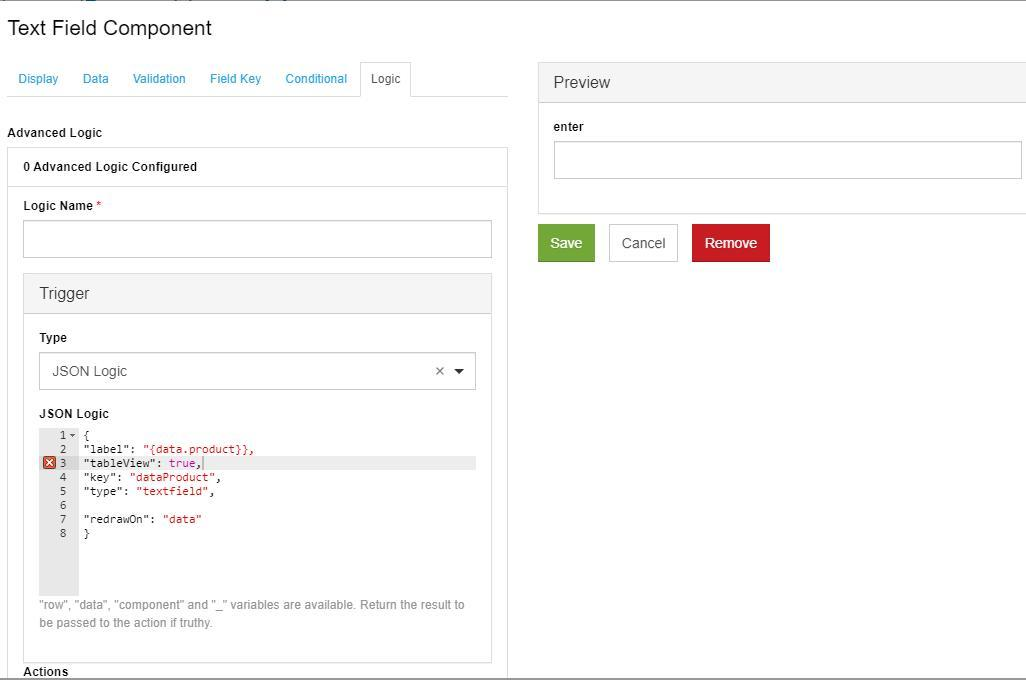button: (692, 224, 772, 263), (610, 225, 678, 263), (539, 224, 597, 264)
dropdown: (40, 355, 477, 391)
input: (555, 143, 1026, 180), (24, 223, 492, 260)
label: (22, 199, 103, 216), (37, 329, 73, 346), (552, 119, 585, 134)
